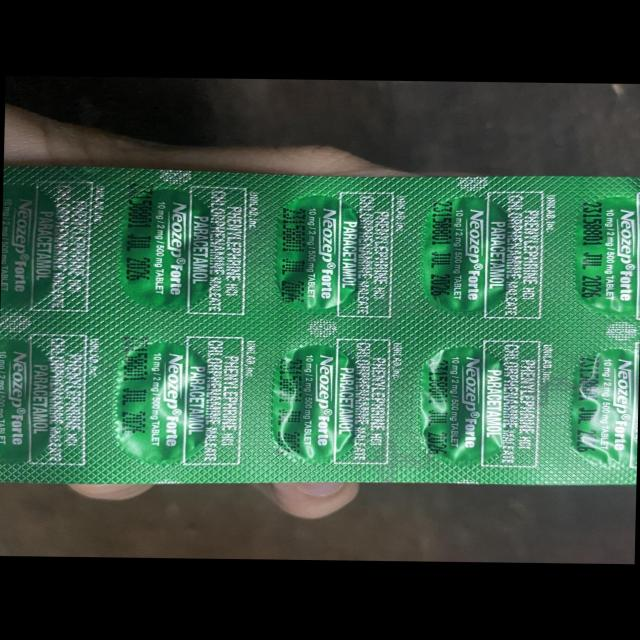Neozep_Strip: (0, 164, 640, 492)
